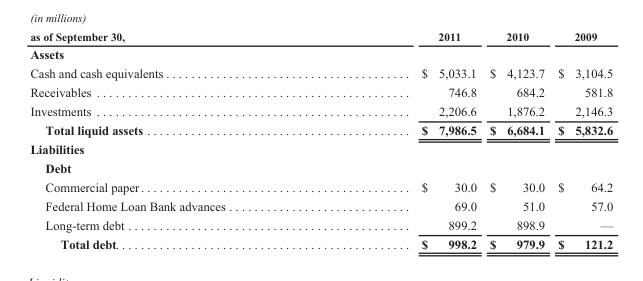table: (29, 29, 612, 250)
table column: (29, 29, 322, 250), (322, 29, 482, 250), (482, 29, 550, 250), (550, 29, 612, 250)
table column header: (29, 29, 612, 44)
table projected row header: (29, 44, 612, 63), (29, 139, 612, 158), (29, 158, 612, 177)
table row: (29, 44, 612, 63), (29, 63, 612, 82), (29, 82, 612, 101), (29, 101, 612, 120), (29, 120, 612, 139), (29, 139, 612, 158), (29, 158, 612, 177), (29, 177, 612, 196), (29, 214, 612, 233), (29, 196, 612, 214), (29, 233, 612, 250), (29, 29, 612, 44)
